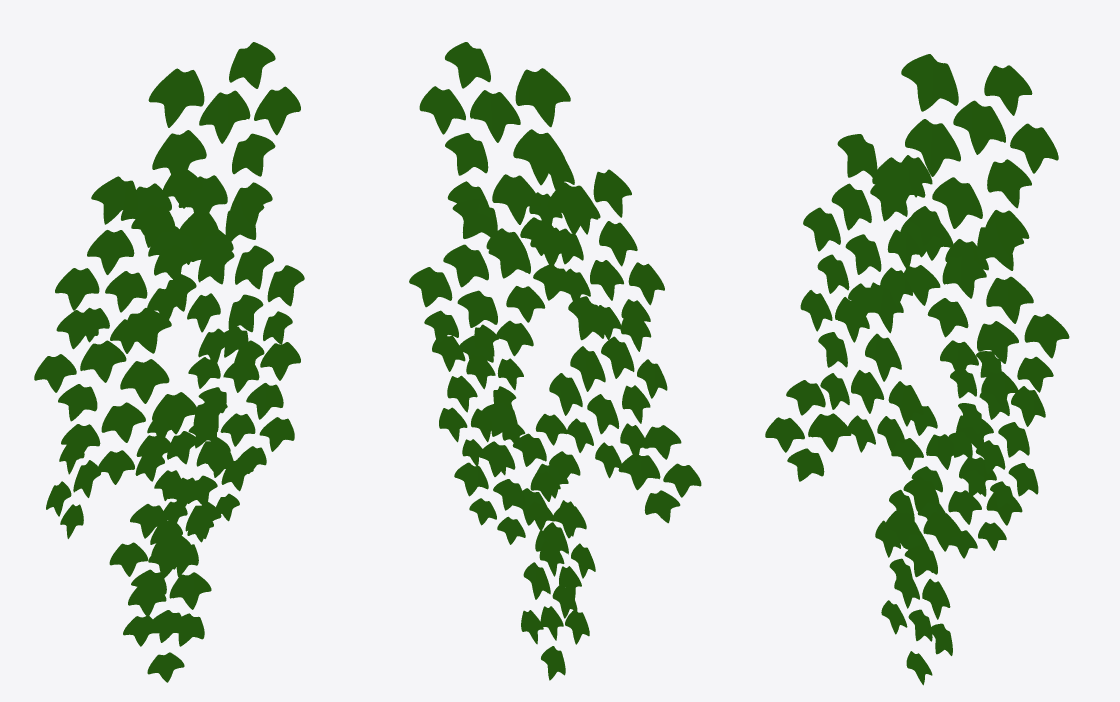
Rendered from Prop_Vine2.obj.
3 views of the same model, side by side, from view 1: azimuth 30°, elevation 25°; view 2: azimuth 150°, elevation 25°; view 3: azimuth 330°, elevation 25° (orthographic). The views are drawn at different scales.
Parts seen in each view (by area): view 1: Prop_Vine2; view 2: Prop_Vine2; view 3: Prop_Vine2.
Boxes of the visible parts, x1,y1,x2,y2 form: Prop_Vine2: [34, 42, 304, 682]; Prop_Vine2: [409, 42, 701, 680]; Prop_Vine2: [765, 54, 1069, 685].
Bounding box in the file's own units: 1.39 × 2.6 × 0.2138.
